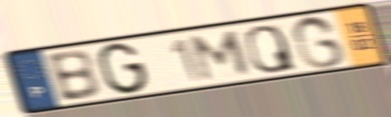1: (170, 36, 202, 83)
B: (43, 48, 103, 105)
G: (289, 13, 349, 71), (96, 41, 151, 96)
M: (189, 28, 254, 83)
Q: (242, 23, 299, 75)
